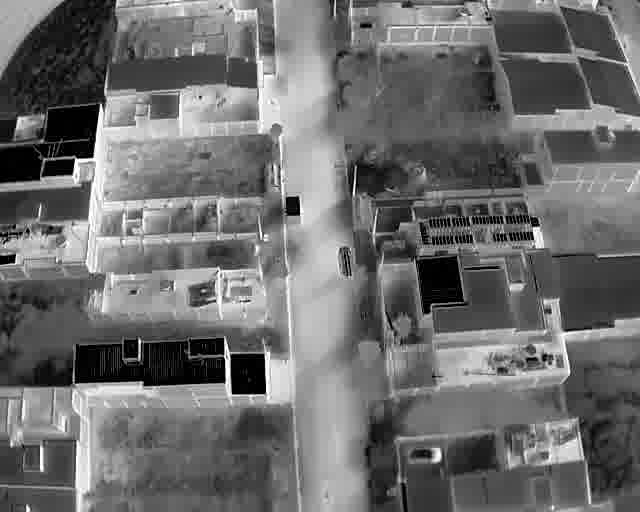car: (406, 445, 442, 464), (337, 245, 354, 280)
